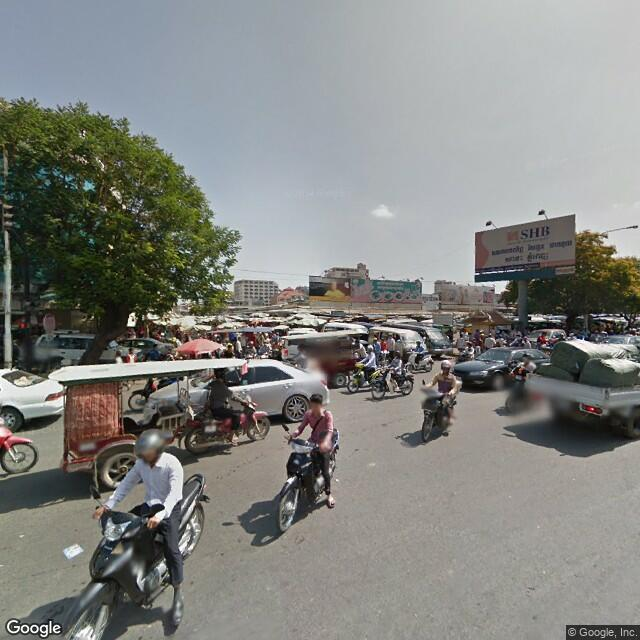litter: (59, 539, 87, 561)
